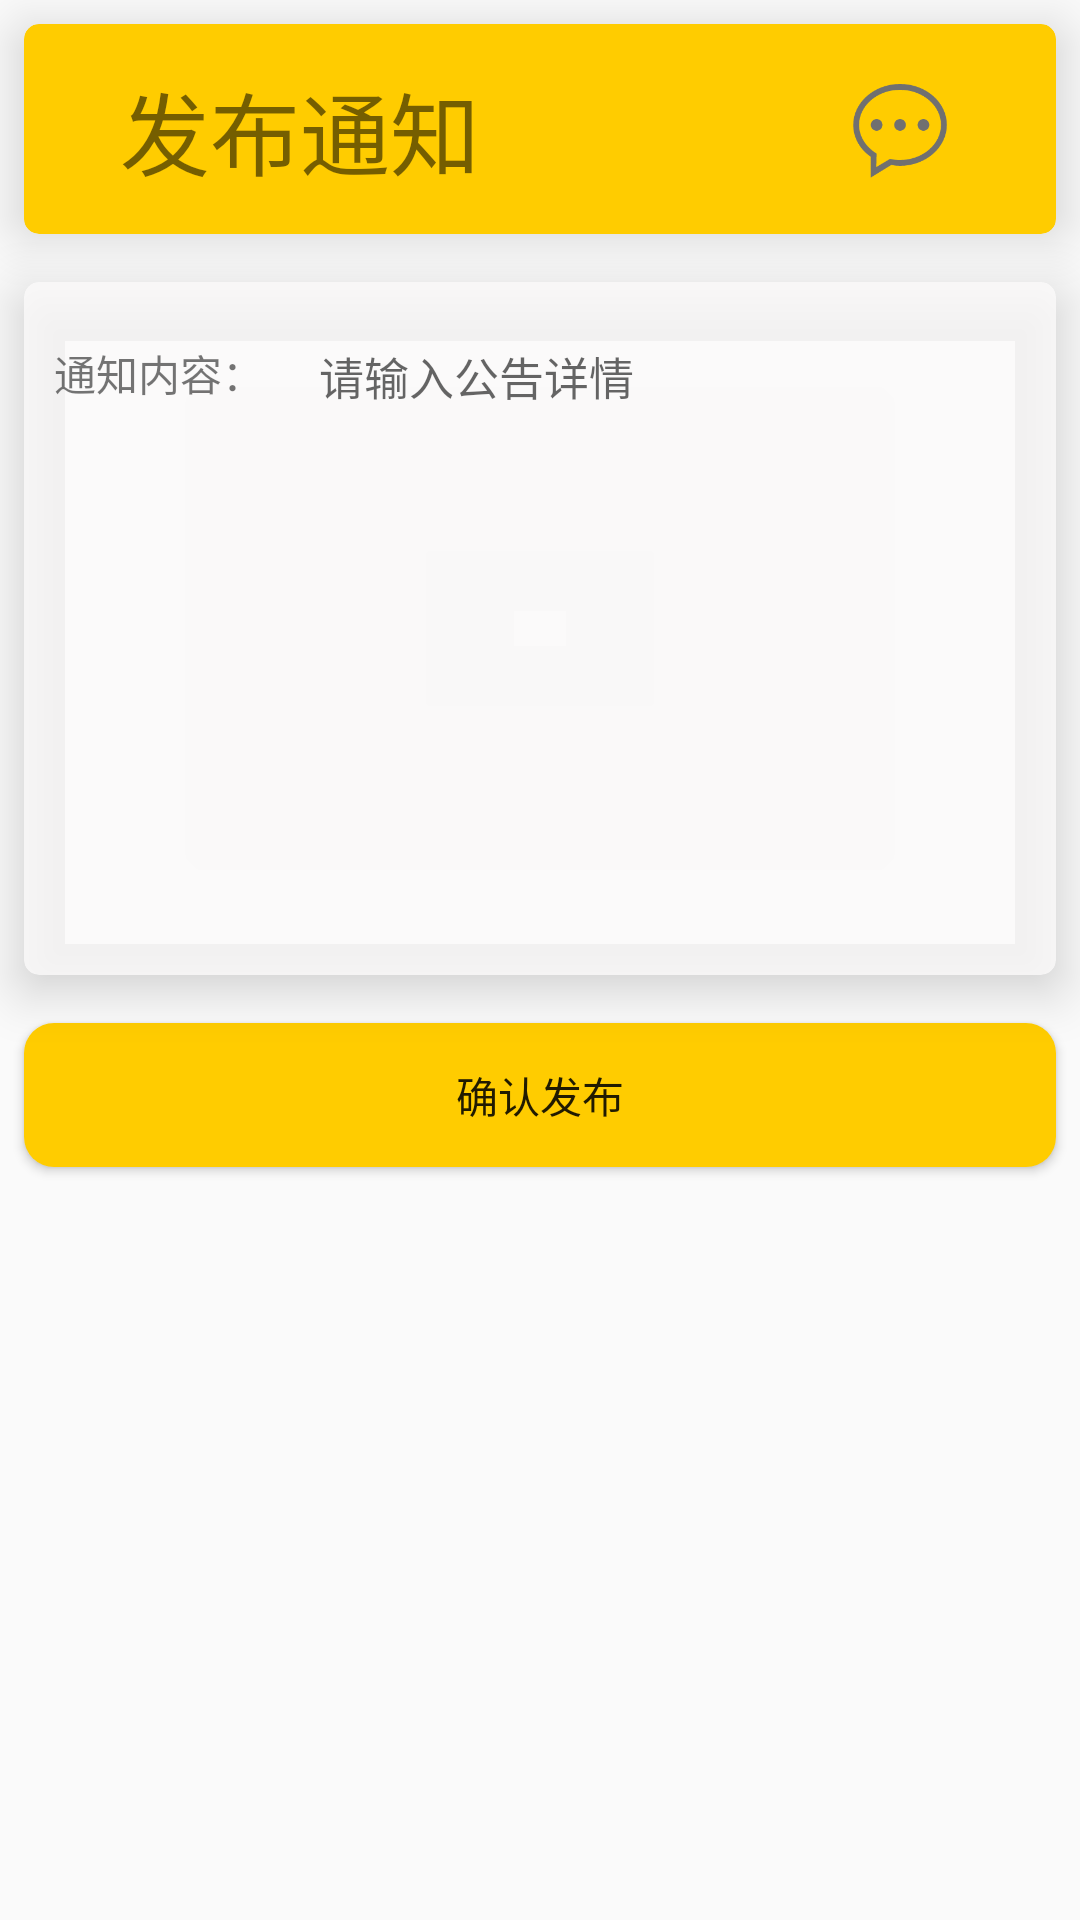

Where icons sit on this 1080w x 1920h app screen, as (x1, y1, x2, y2):
message: (853, 84, 947, 178)
